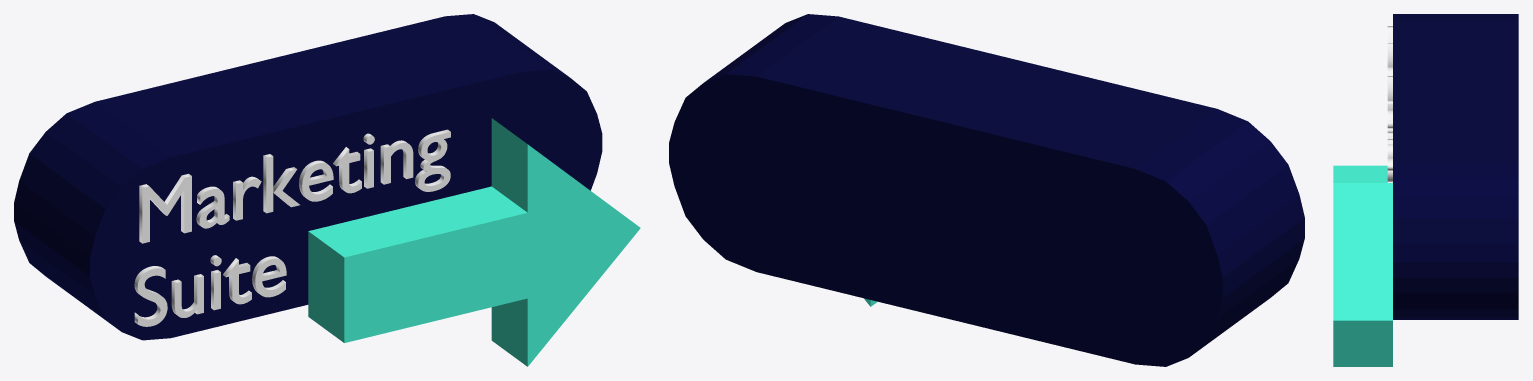
The model's file is hub_room_marketing_button1.glb.
3 renders of one model, left to right at view 1: azimuth 30°, elevation 25°; view 2: azimuth 150°, elevation 25°; view 3: azimuth 270°, elevation 25°, orthographic. The views are drawn at different scales.
Visible parts, largest first — view 1: Plane.004, Plane.005, Text.003, Text.002; view 2: Plane.004; view 3: Plane.004, Plane.005, Text.003.
Part boxes in pixels (x1,y1,x2,y2): Plane.004: [14, 14, 602, 340]; Plane.005: [308, 118, 640, 366]; Text.003: [139, 129, 450, 243]; Text.002: [134, 255, 286, 326]; Plane.004: [669, 14, 1304, 366]; Plane.004: [1393, 14, 1518, 319]; Plane.005: [1333, 165, 1392, 366]; Text.003: [1387, 26, 1392, 182].
Bounding box in the file's own units: 0.4042 × 0.1962 × 0.1524.
